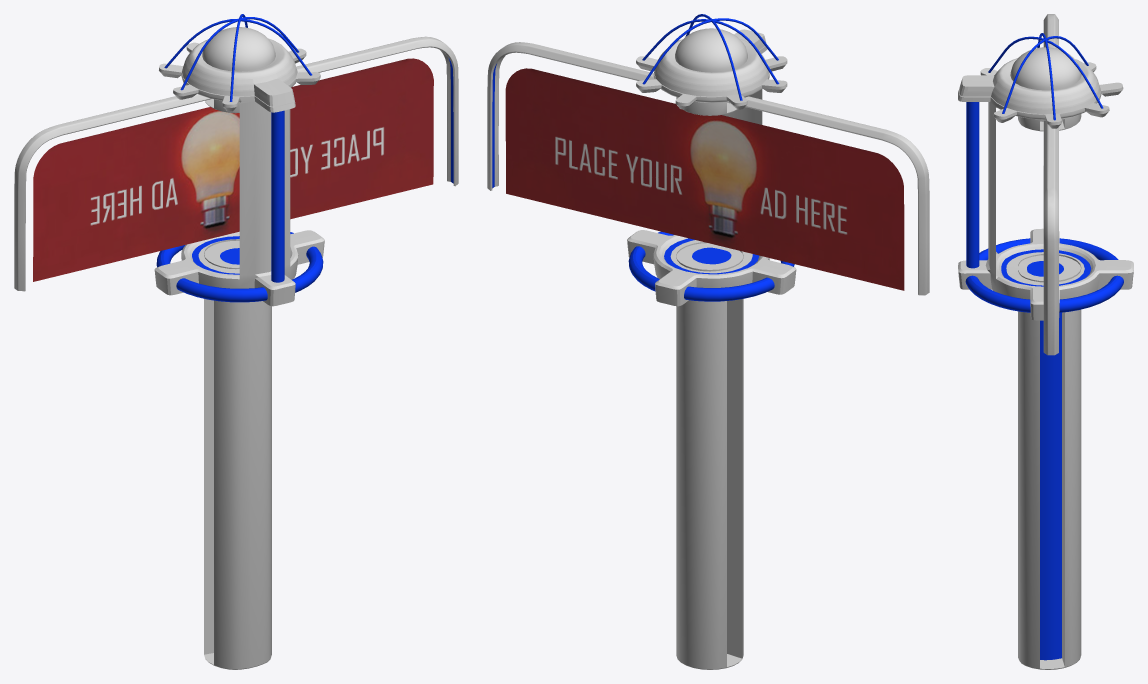
The model's file is Futuristic Billboard.FBX.
The picture shows the model from 3 angles, left to right: view 1: azimuth 30°, elevation 25°; view 2: azimuth 150°, elevation 25°; view 3: azimuth 270°, elevation 25°; orthographic projection. The views are drawn at different scales.
Visible parts, largest first — view 1: Plane001, STERILAZOR3, bole, cage; view 2: Plane001, bole, STERILAZOR3, cage; view 3: bole, STERILAZOR3, cage.
Boxes of the visible parts, left/top/right/bottom form: Plane001: left=33, top=58, right=433, bottom=281; STERILAZOR3: left=154, top=14, right=324, bottom=306; bole: left=204, top=239, right=271, bottom=669; cage: left=14, top=36, right=458, bottom=291; Plane001: left=505, top=68, right=904, bottom=290; bole: left=676, top=242, right=743, bottom=669; STERILAZOR3: left=627, top=14, right=796, bottom=306; cage: left=487, top=42, right=929, bottom=295; bole: left=1018, top=254, right=1081, bottom=669; STERILAZOR3: left=958, top=33, right=1133, bottom=320; cage: left=1043, top=14, right=1058, bottom=355.
Bounding box in the file's own units: 171 × 236 × 60.98.
Materials: 3 (1 with a texture image).
